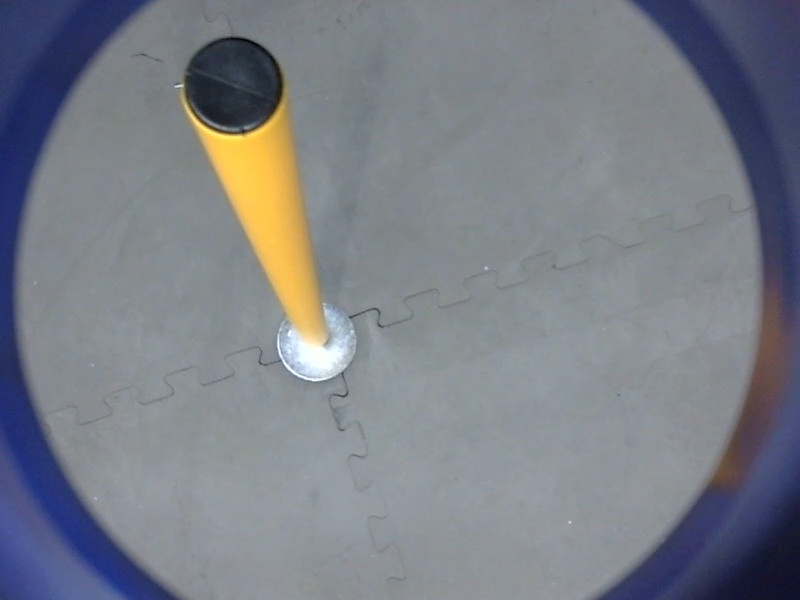tip: (176, 31, 291, 141)
